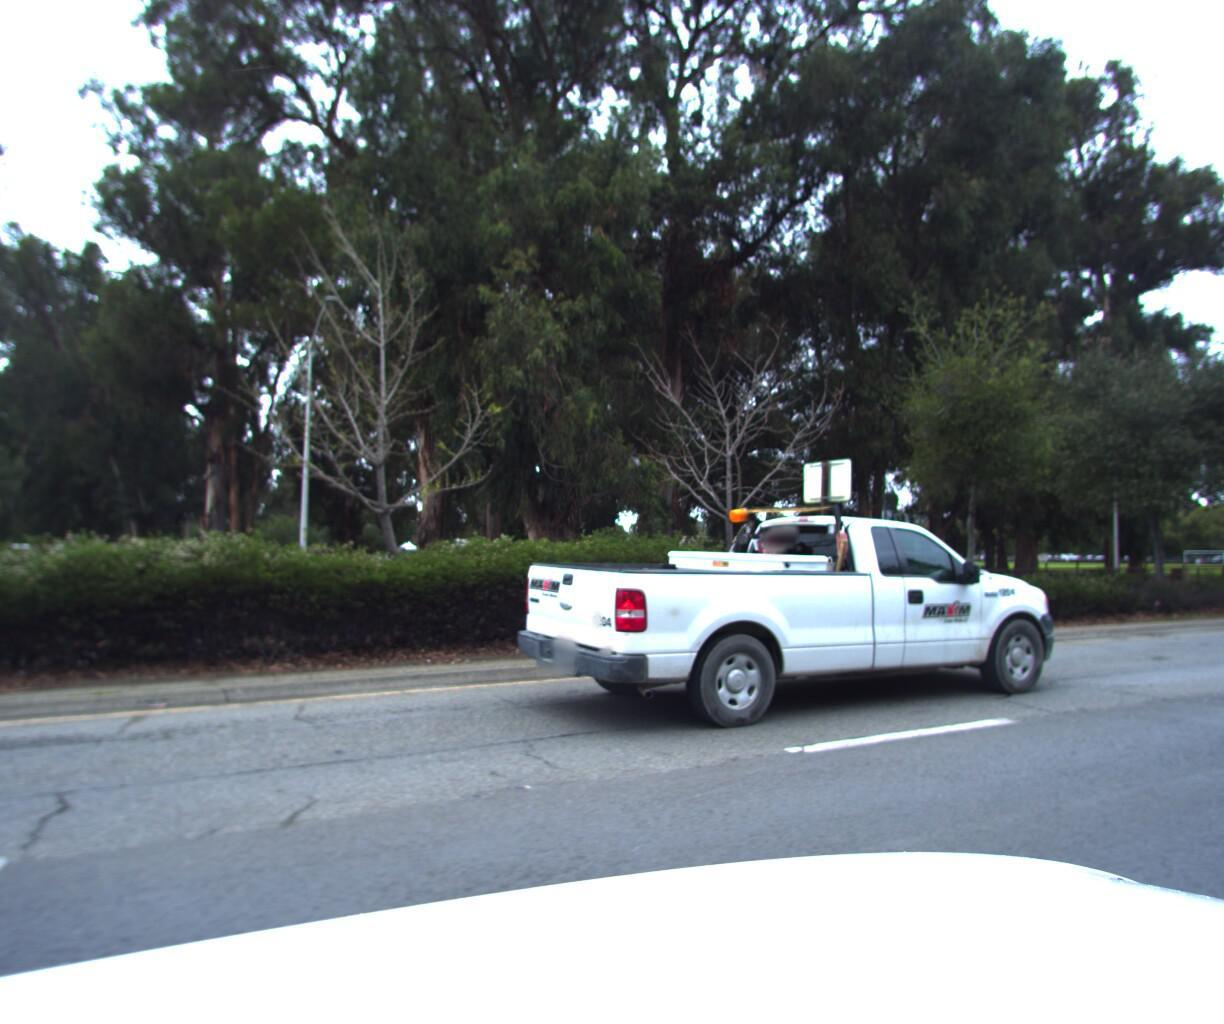car: (495, 461, 1072, 756), (0, 545, 143, 661)
